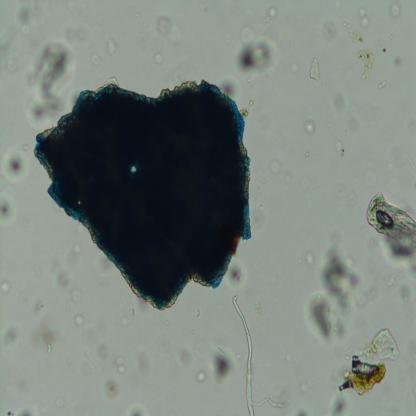Background material: (306, 235, 364, 345), (29, 43, 70, 117), (336, 353, 388, 397), (0, 5, 38, 64), (235, 34, 280, 78), (355, 332, 401, 363), (210, 348, 236, 390), (394, 137, 416, 174), (34, 322, 58, 354), (3, 151, 29, 180), (156, 16, 181, 42), (225, 262, 248, 290), (358, 47, 374, 83), (64, 23, 88, 46), (318, 21, 338, 47), (0, 194, 16, 225), (341, 22, 364, 43), (5, 320, 21, 349), (330, 394, 350, 415), (124, 401, 152, 416), (308, 55, 322, 83), (332, 94, 350, 115), (68, 243, 83, 267), (250, 209, 266, 230), (179, 347, 194, 369), (56, 268, 73, 287), (398, 282, 414, 302), (238, 24, 254, 43), (388, 2, 404, 20), (71, 285, 84, 306), (105, 380, 121, 397), (358, 9, 370, 30), (270, 158, 283, 177), (115, 356, 127, 376), (89, 50, 102, 68), (304, 249, 316, 268), (106, 36, 117, 56), (392, 53, 404, 70), (303, 120, 317, 134), (297, 382, 309, 396), (0, 280, 11, 295), (268, 6, 279, 20), (117, 316, 131, 327), (74, 314, 85, 328), (335, 139, 344, 156), (292, 408, 310, 416), (153, 52, 164, 65), (195, 371, 207, 382), (290, 61, 300, 74), (378, 79, 388, 91), (286, 353, 292, 363)
Cellulose filter fibre: (232, 295, 259, 414), (365, 190, 416, 248)
Fragment: (32, 76, 251, 312)
